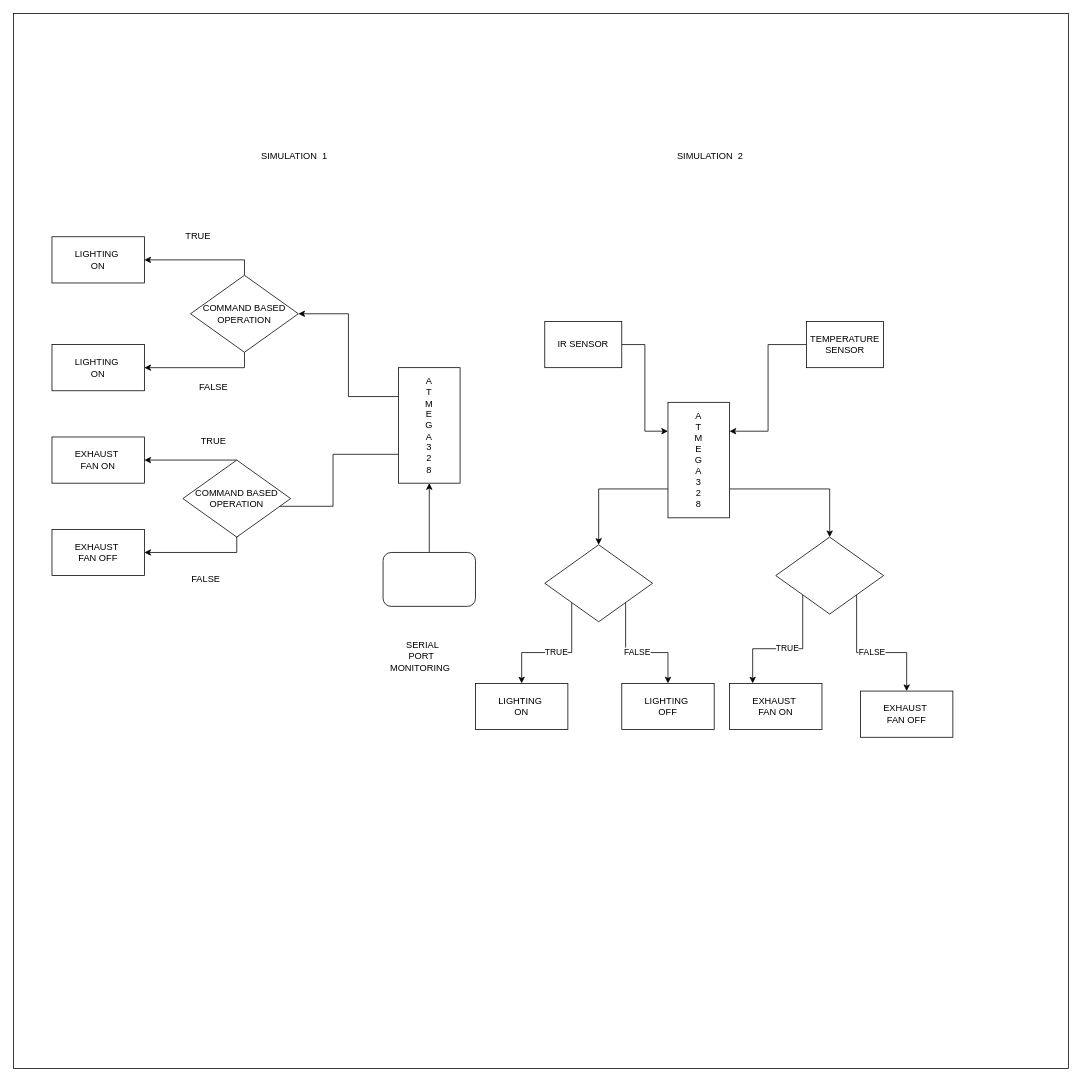
Image size: 1082x1082. Some labels were removed from this diagram. Each missing label, with the centre of its shape:
"COMMANDS" goes at point (428, 579).
"STATE IS HIGH" goes at point (598, 583).
"TEMPERATURE IS >35" goes at point (829, 575).
